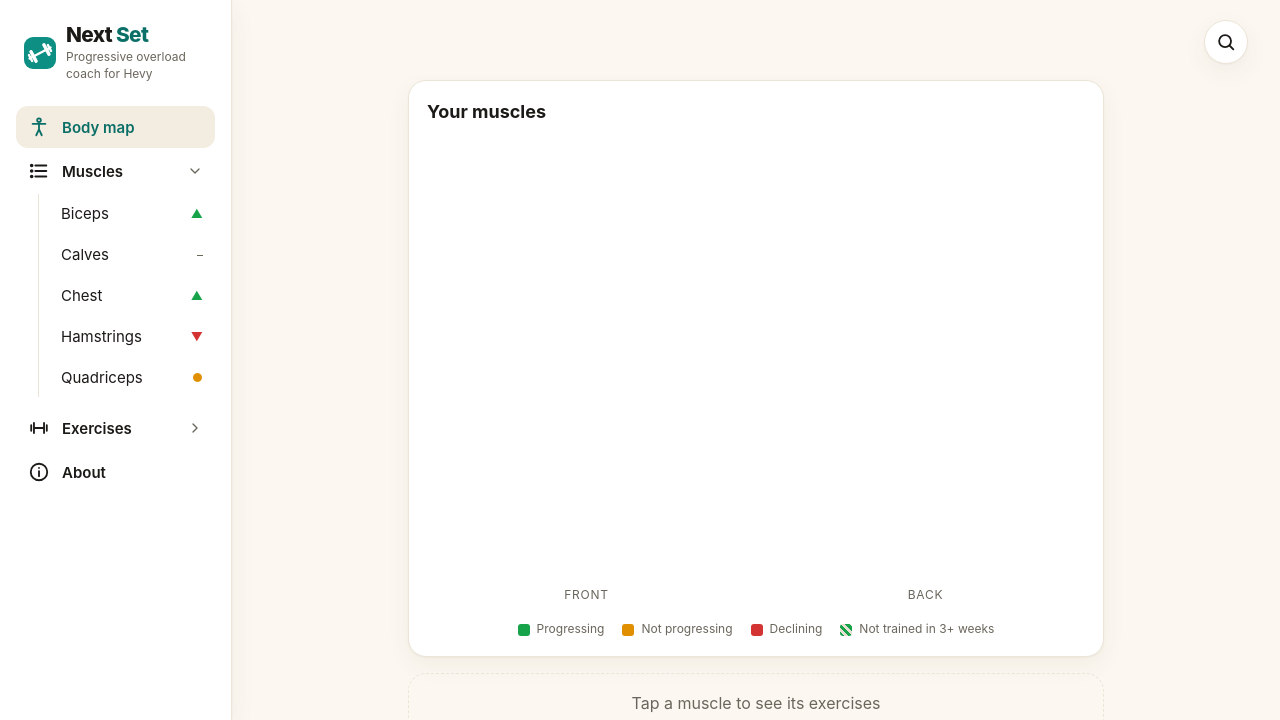
Test case: search › closes with Escape
The width and height of the screenshot is (1280, 720).
Click the button named "Search exercises and muscles" at (1226,42), box [1204, 20, 1248, 64]
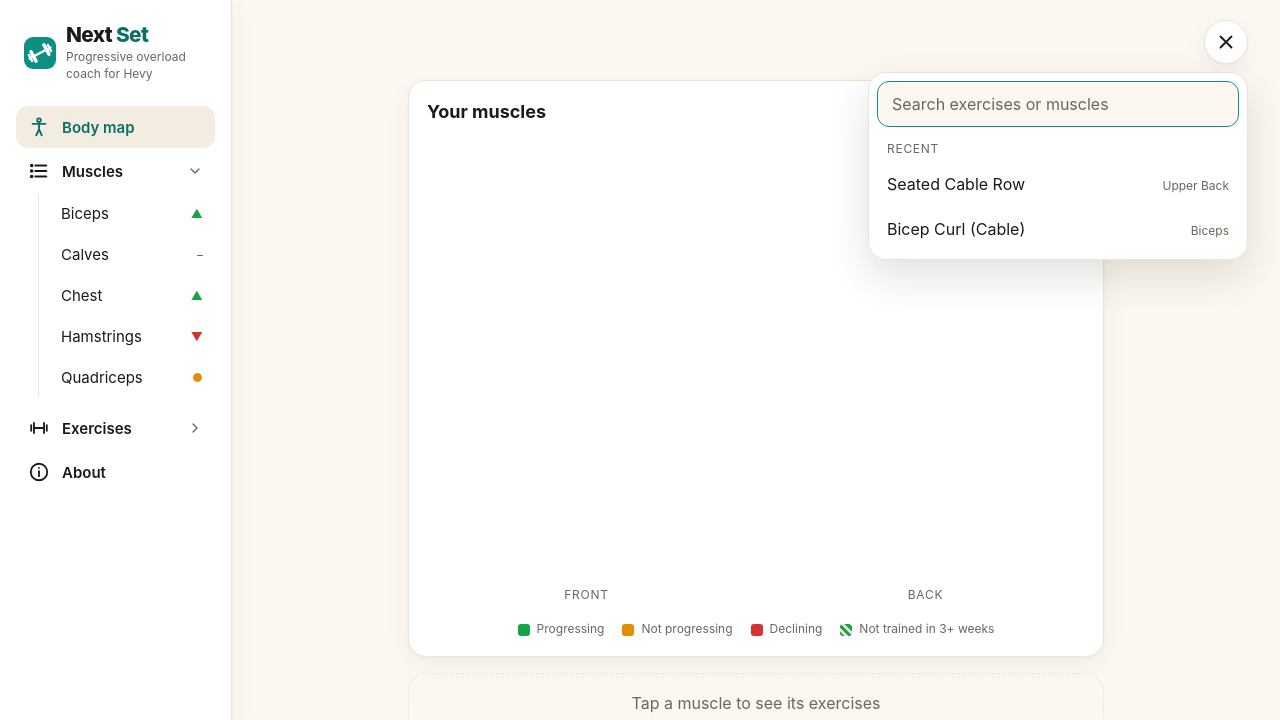
Press Escape
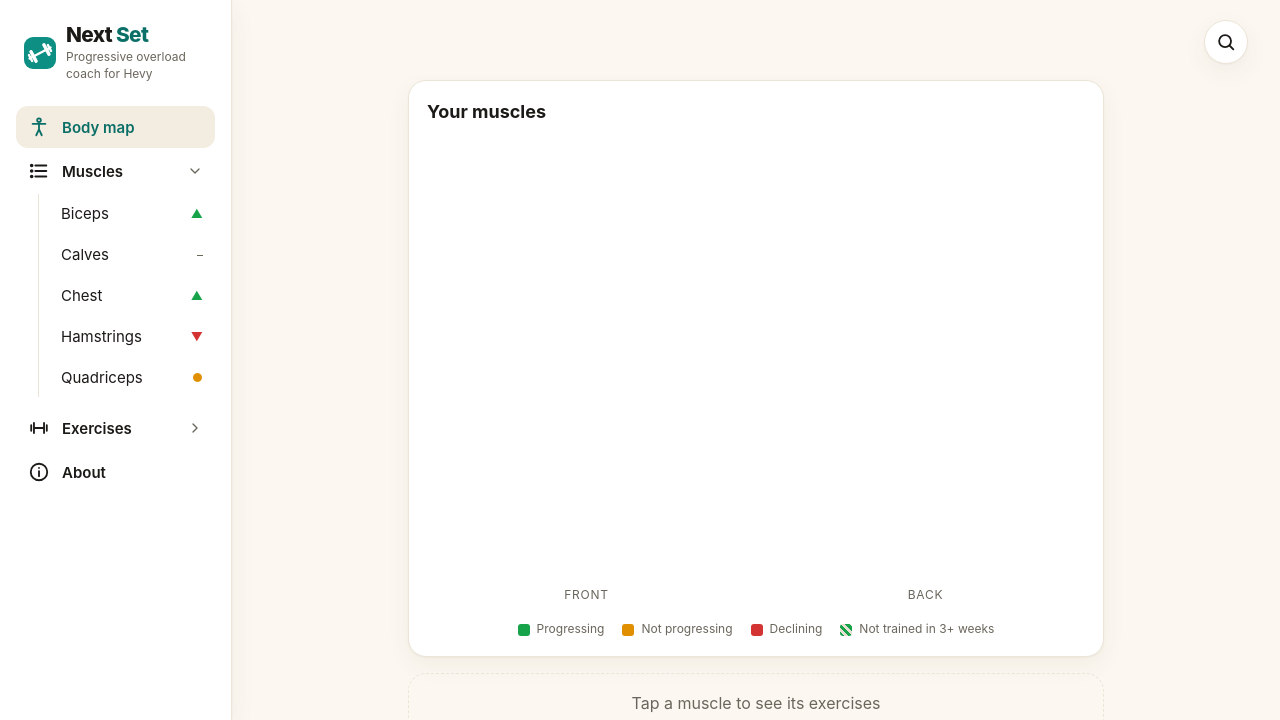
Result: the dropdown is gone
